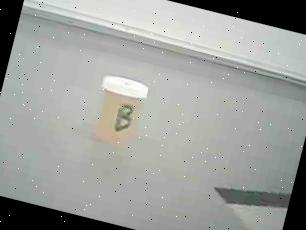Bottle B: (80, 64, 159, 163)
